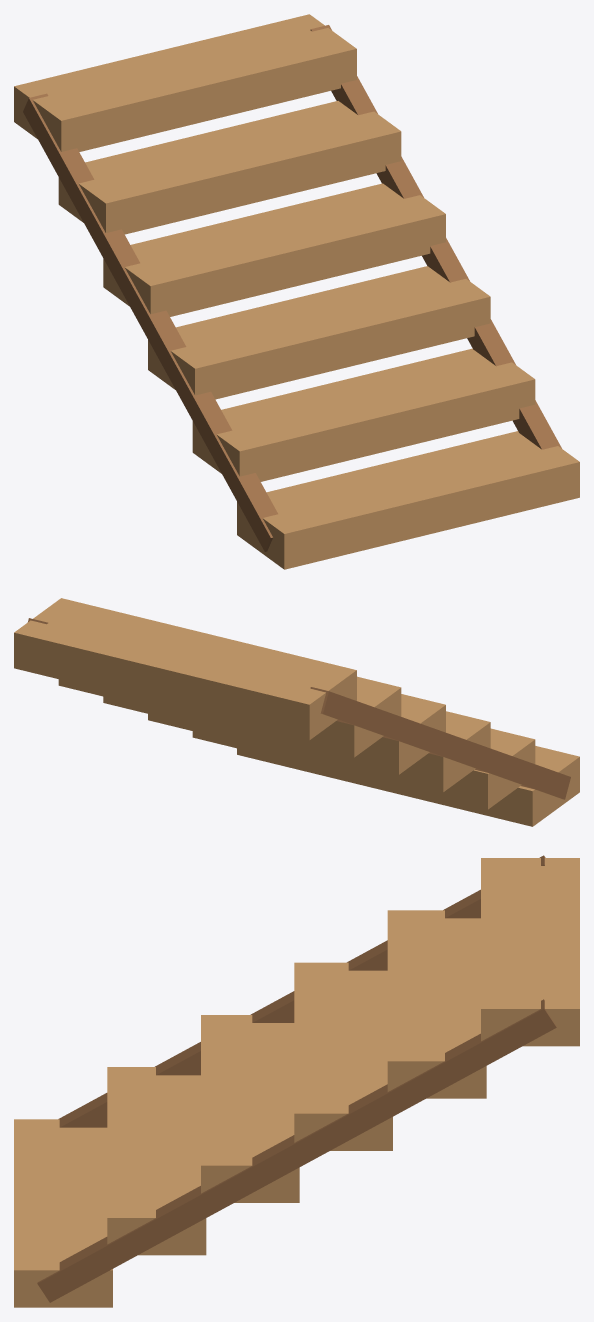
Rendered from stairs.glb.
3 views of the same model, one above another, from view 1: azimuth 30°, elevation 25°; view 2: azimuth 150°, elevation 25°; view 3: azimuth 270°, elevation 25° (orthographic). The views are drawn at different scales.
Size of the model in its own units: 1.32 by 1.21 by 2.06.
